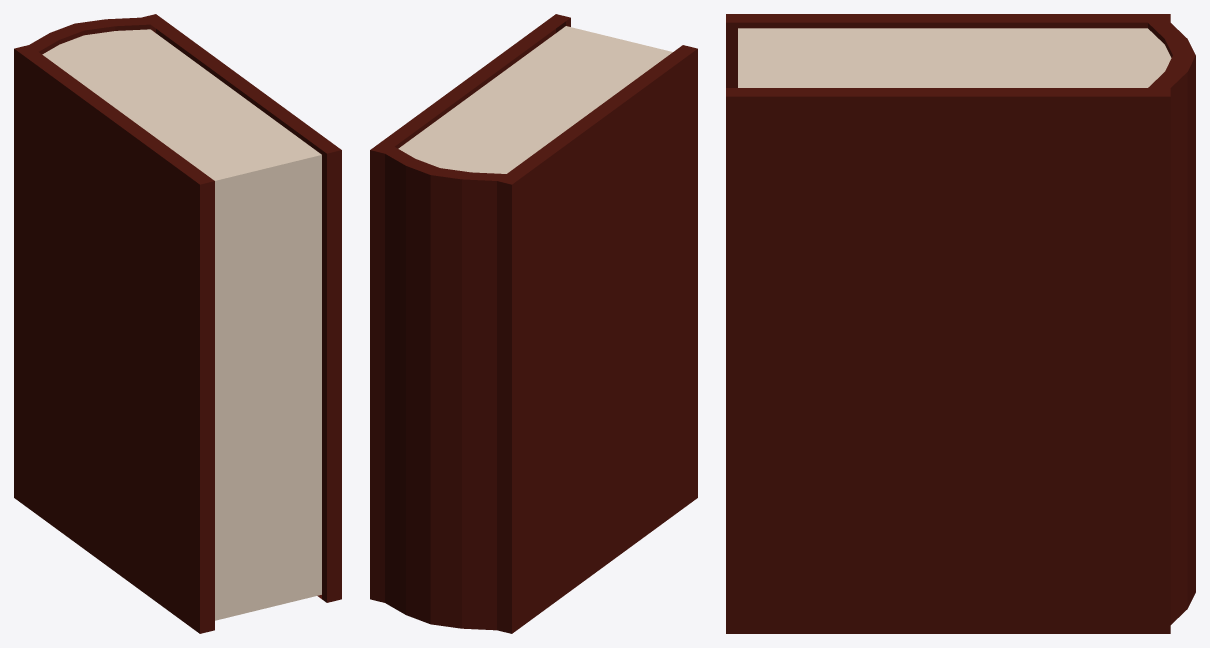
File: livro1.fbx
3 views of the same model, side by side, from view 1: azimuth 30°, elevation 25°; view 2: azimuth 150°, elevation 25°; view 3: azimuth 270°, elevation 25° (orthographic). The views are drawn at different scales.
Parts seen in each view (by area): view 1: Cube; view 2: Cube; view 3: Cube.
Boxes of the visible parts, bbox=[...] form: Cube: bbox=[14, 14, 341, 633]; Cube: bbox=[370, 14, 697, 633]; Cube: bbox=[726, 14, 1195, 633].
Size of the model in its own units: 58.16 by 176 by 139.
